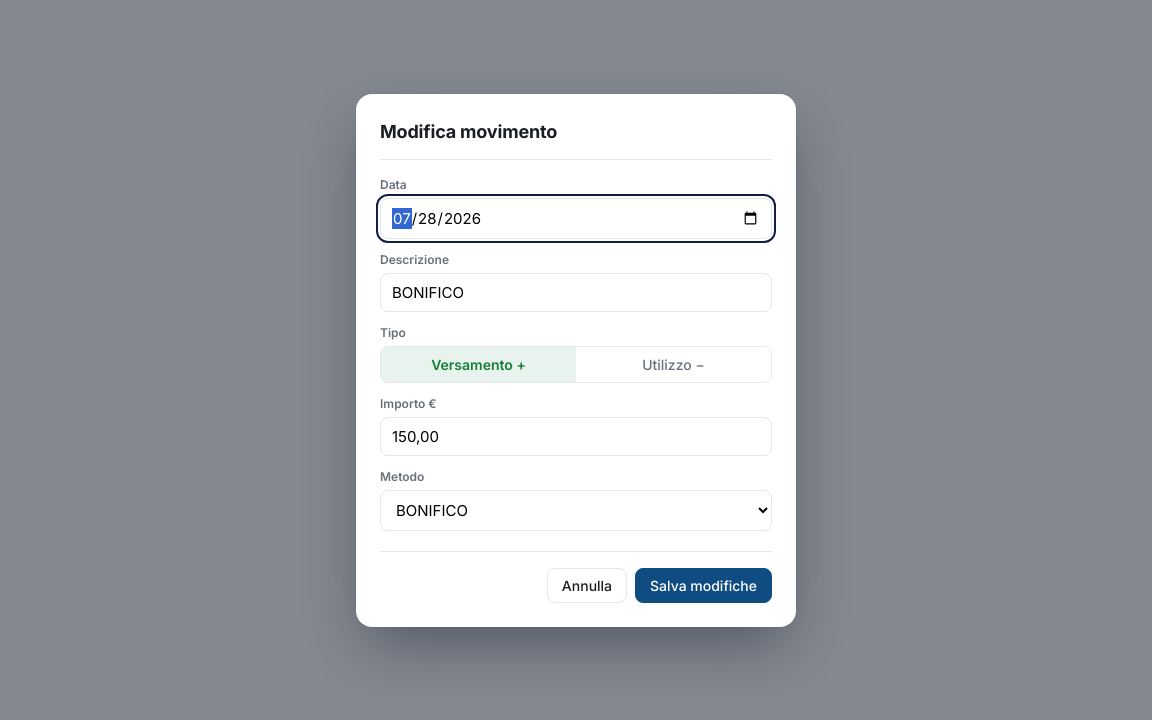
Test case: EditMovimentoModal — un campo per volta, sotto il campo, non un toast coi tre nomi › un importo non interpretabile lo dice sul proprio campo, non su un altro
Replace the text in the field labelled "Importo €" with "abc" at (576, 436), box [380,416,772,456]
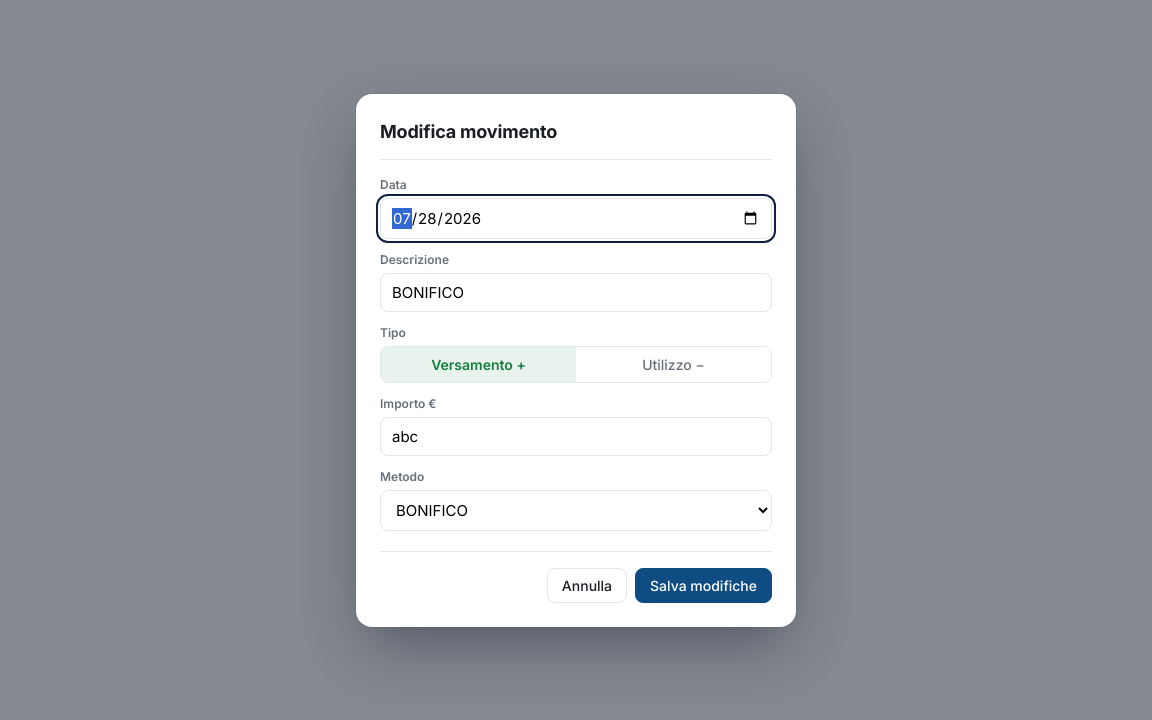
Click the button "Salva modifiche" at (704, 585), box [635,568,772,602]
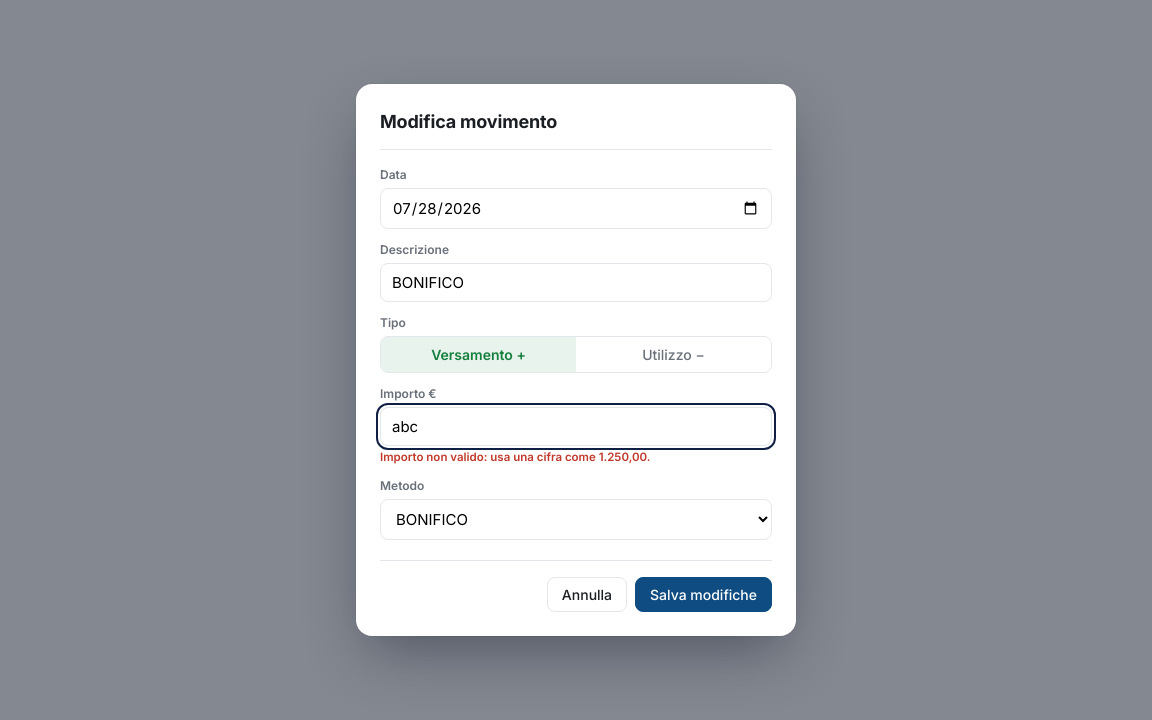
Now the message shows "Importo", box [380,450,650,464]
